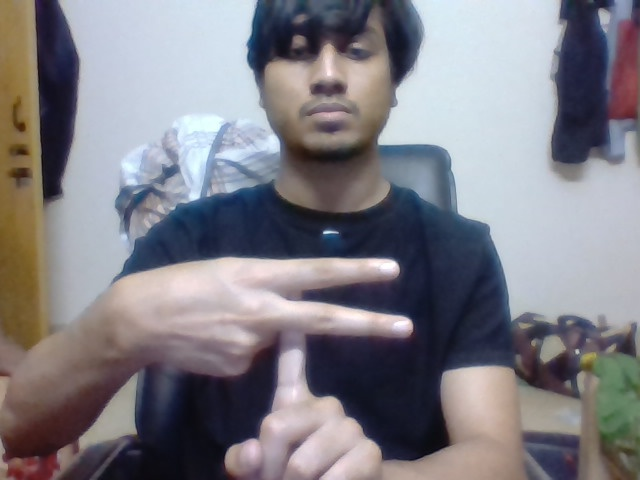F: (269, 253, 416, 399)
